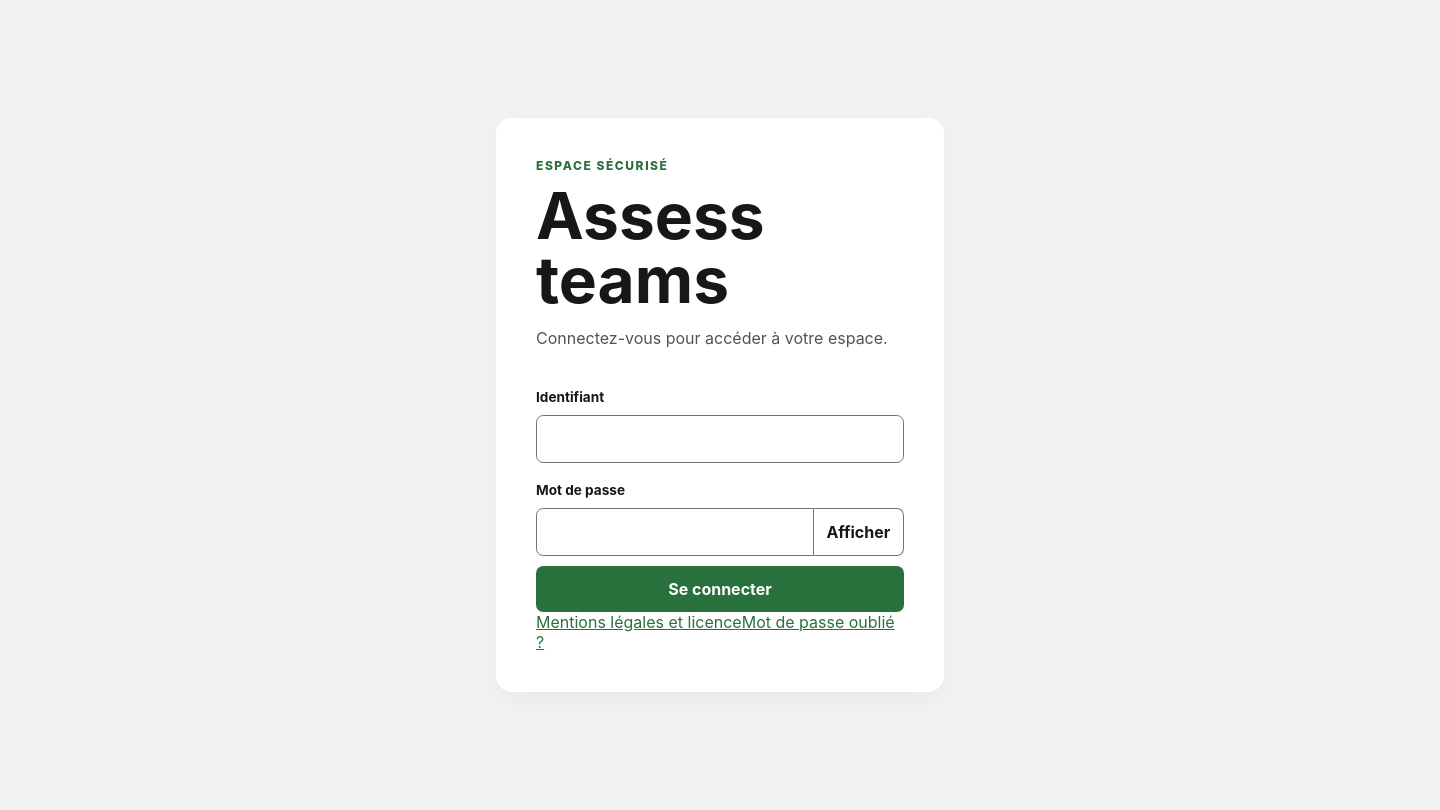
returns a Coach to the evaluation link after login
The image size is (1440, 810).
Step 1. Type "coach" into the field labelled "Identifiant" → (720, 439), box [536,415,904,462]
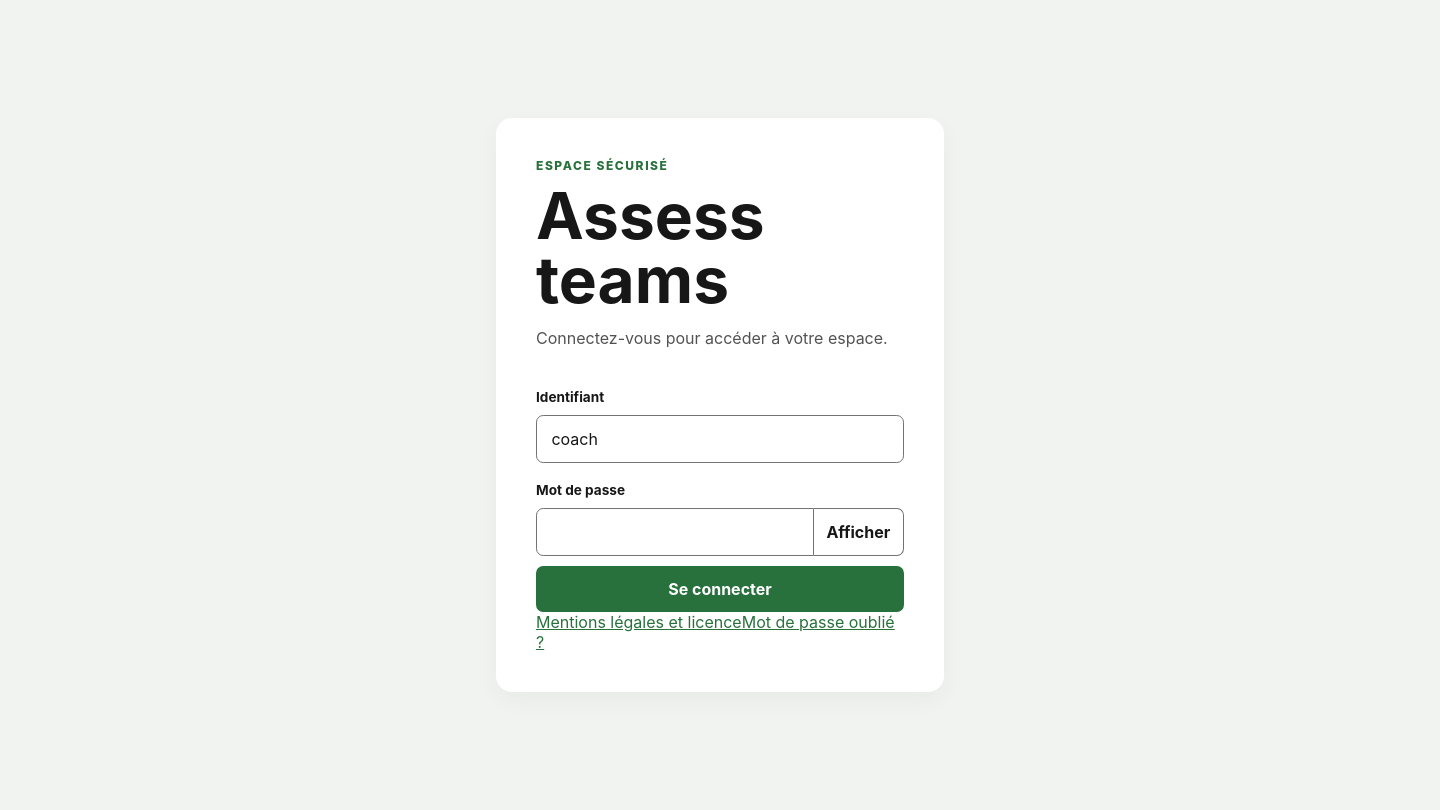
Step 2. Type "credential" into the password field labelled "Mot de passe" → (675, 532), box [536,508,814,556]
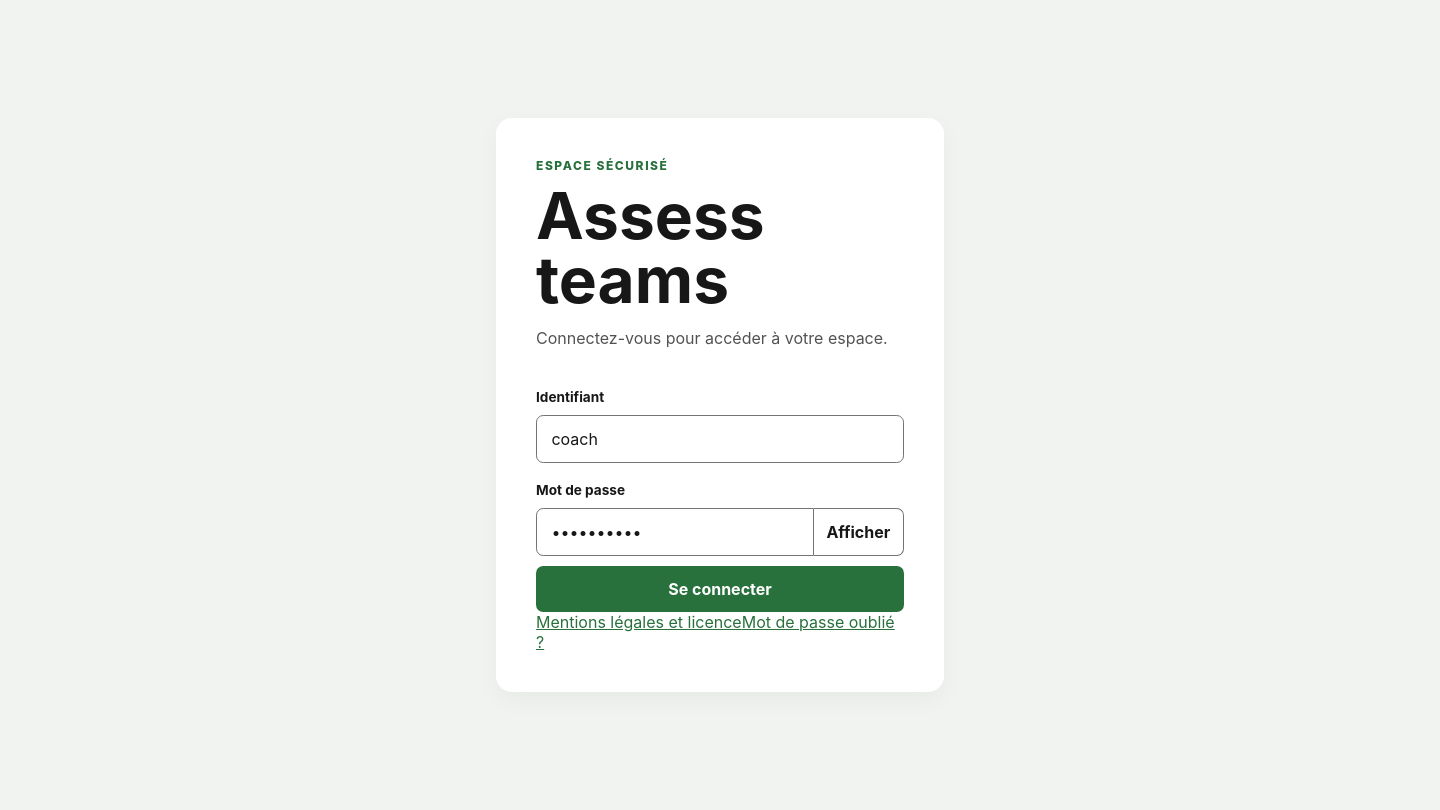
Step 3. Click the button "Se connecter" → (720, 589), box [536,566,904,612]
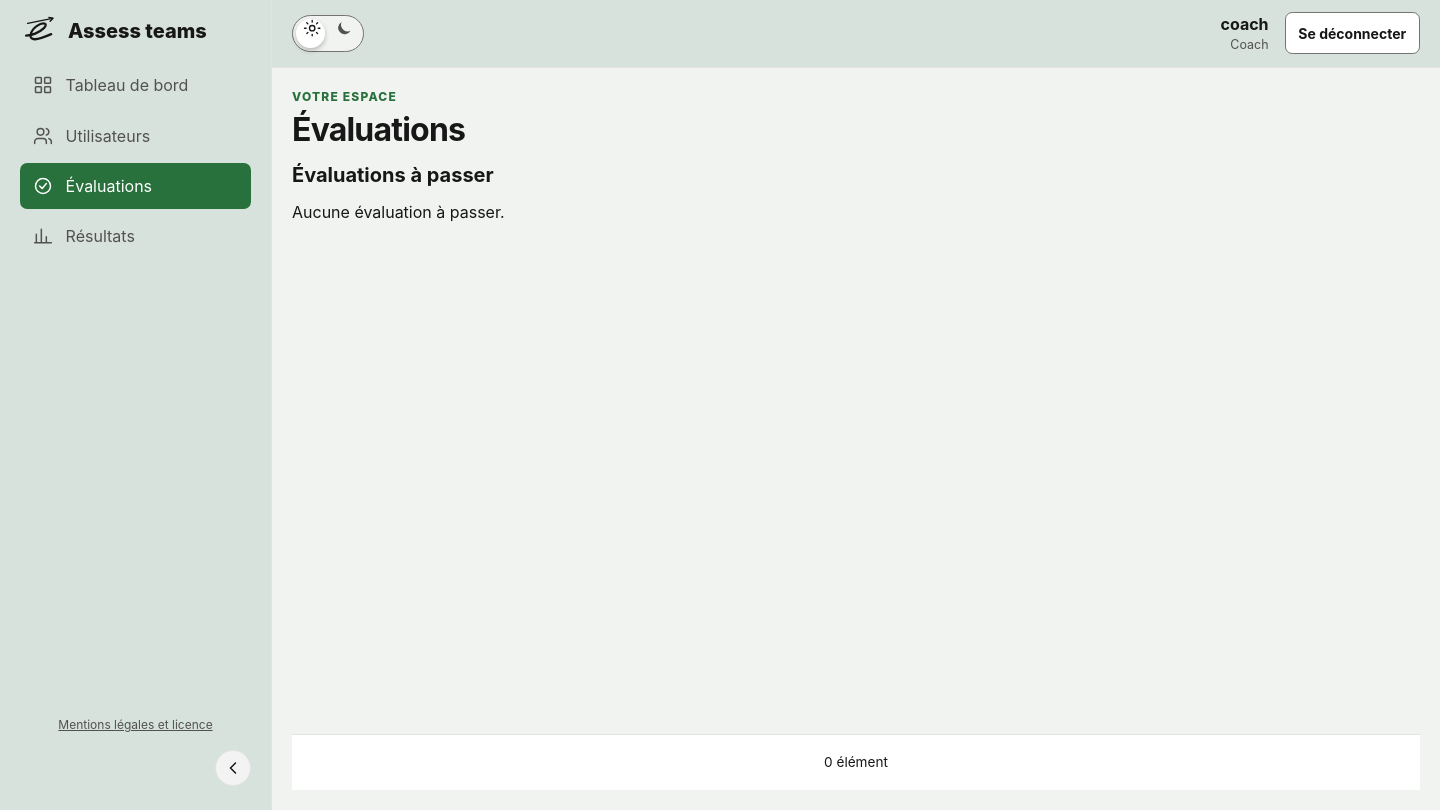
Expected: the heading "Évaluations à passer" is shown, [292,163,494,187]
